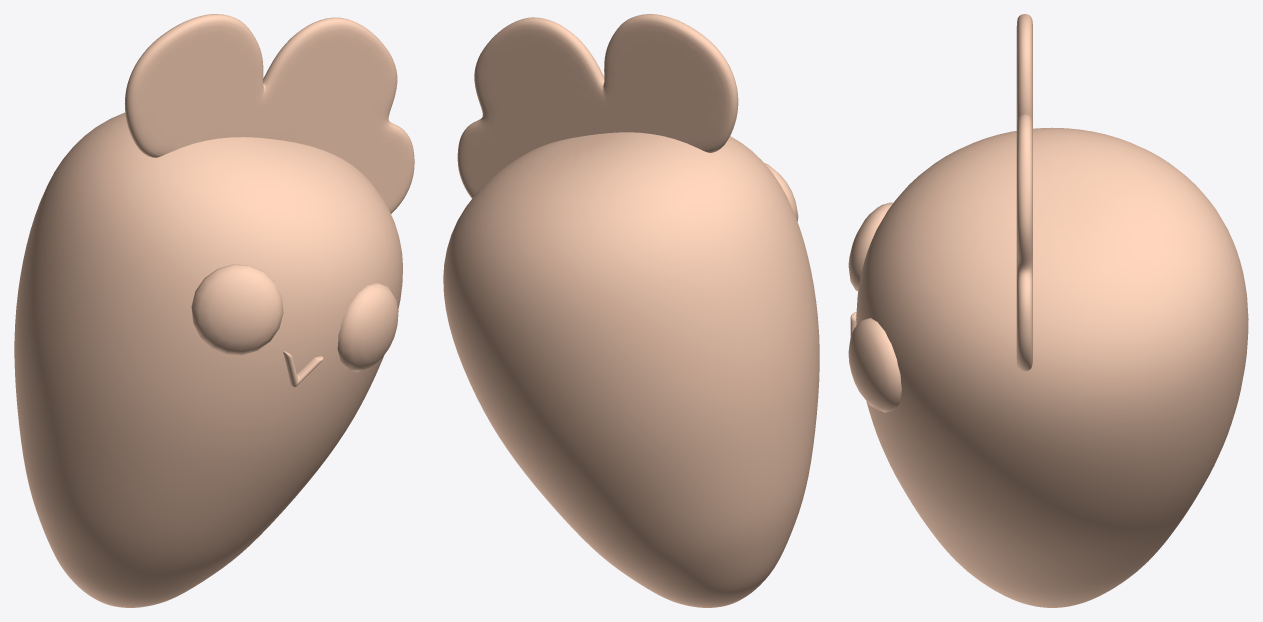
File: Zanahoria.fbx
The picture shows the model from 3 angles, left to right: view 1: azimuth 30°, elevation 25°; view 2: azimuth 150°, elevation 25°; view 3: azimuth 270°, elevation 25°; orthographic projection. The views are drawn at different scales.
Visible parts, largest first — view 1: Zanahoria; view 2: Zanahoria; view 3: Zanahoria.
Boxes of the visible parts, left/top/right/bottom form: Zanahoria: left=14, top=14, right=414, bottom=607; Zanahoria: left=443, top=14, right=819, bottom=607; Zanahoria: left=848, top=14, right=1248, bottom=607.
Size of the model in its own units: 6.06 by 9.25 by 5.54.
